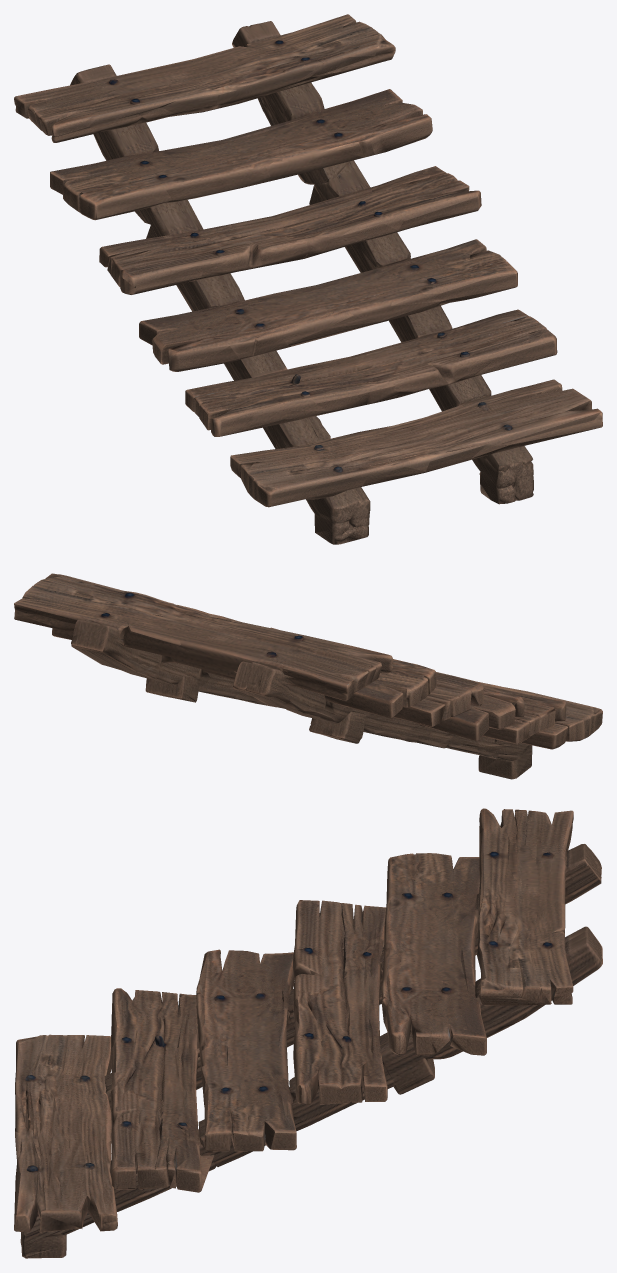
File: Wooden_Stairs.glb
The picture shows the model from 3 angles, top to bottom: view 1: azimuth 30°, elevation 25°; view 2: azimuth 150°, elevation 25°; view 3: azimuth 270°, elevation 25°; orthographic projection. The views are drawn at different scales.
Parts seen in each view (by area): view 1: Mesh_0; view 2: Mesh_0; view 3: Mesh_0.
Part boxes in pixels (<box>): Mesh_0: <box>14,14,602,544</box>; Mesh_0: <box>14,573,602,779</box>; Mesh_0: <box>14,808,602,1258</box>.
Size of the model in its own units: 1.45 by 1.12 by 1.9.
Materials: 1 (1 with a texture image).
